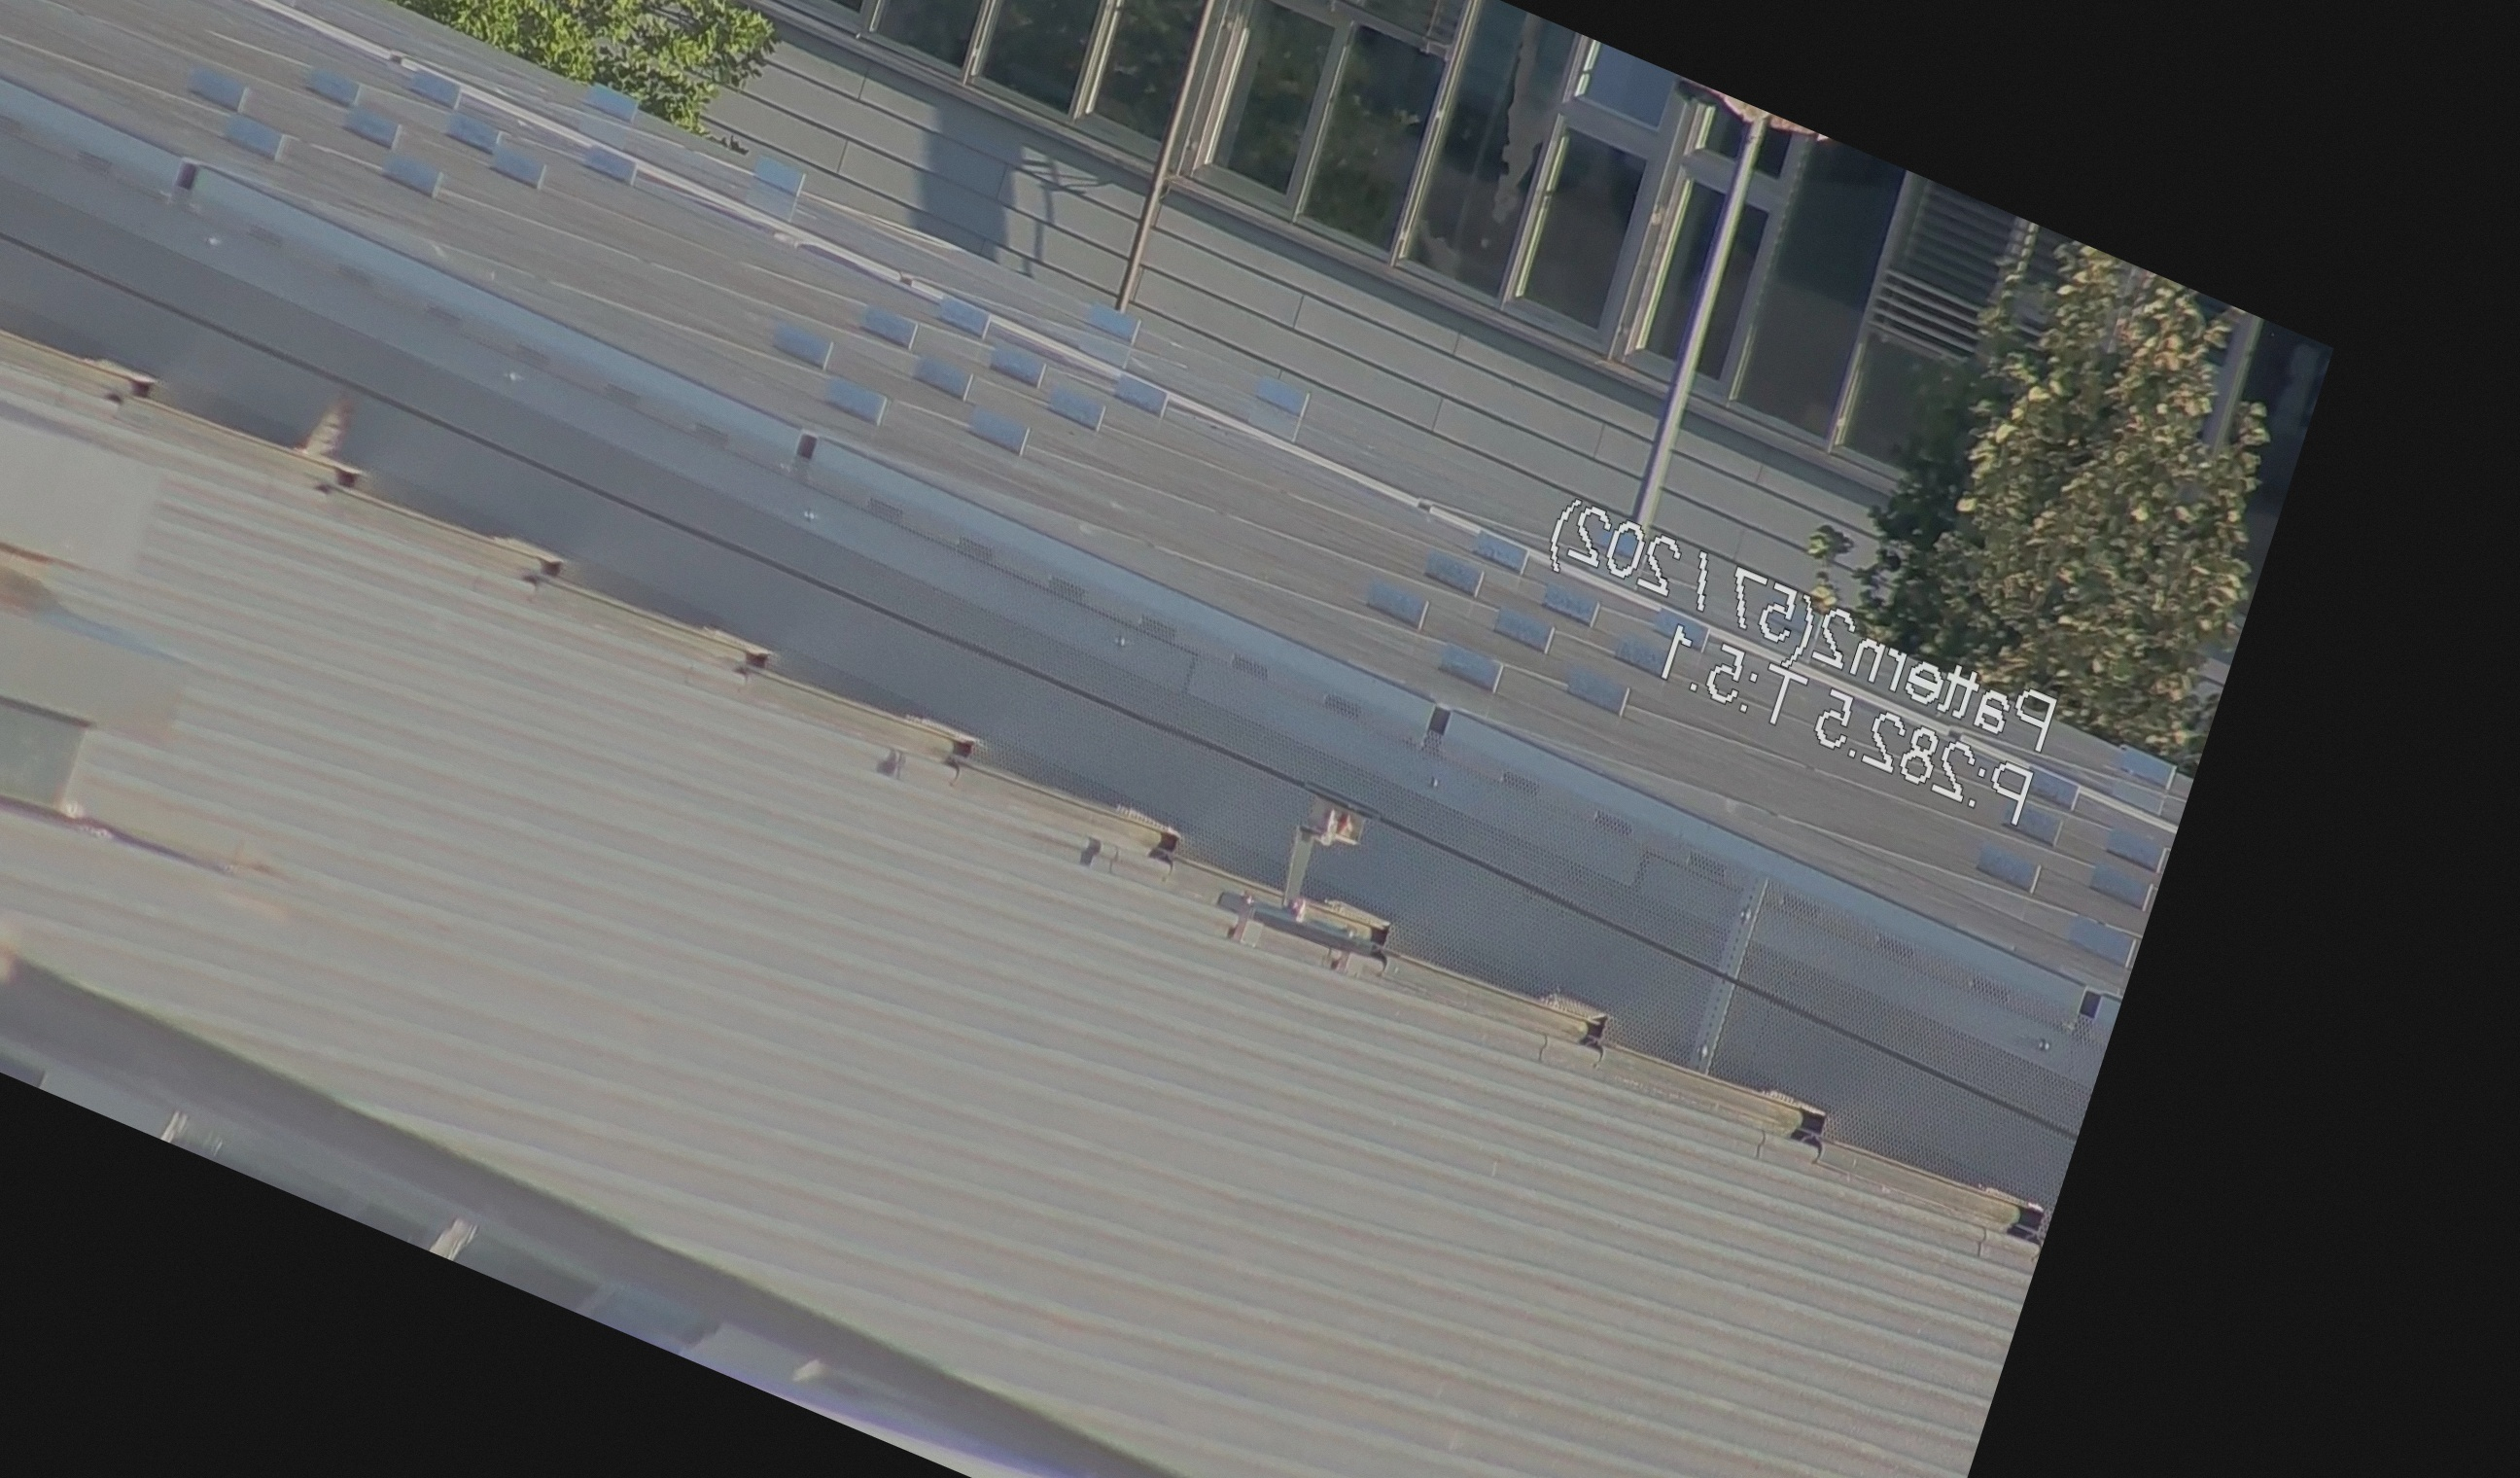Other: (260, 362, 390, 512)
